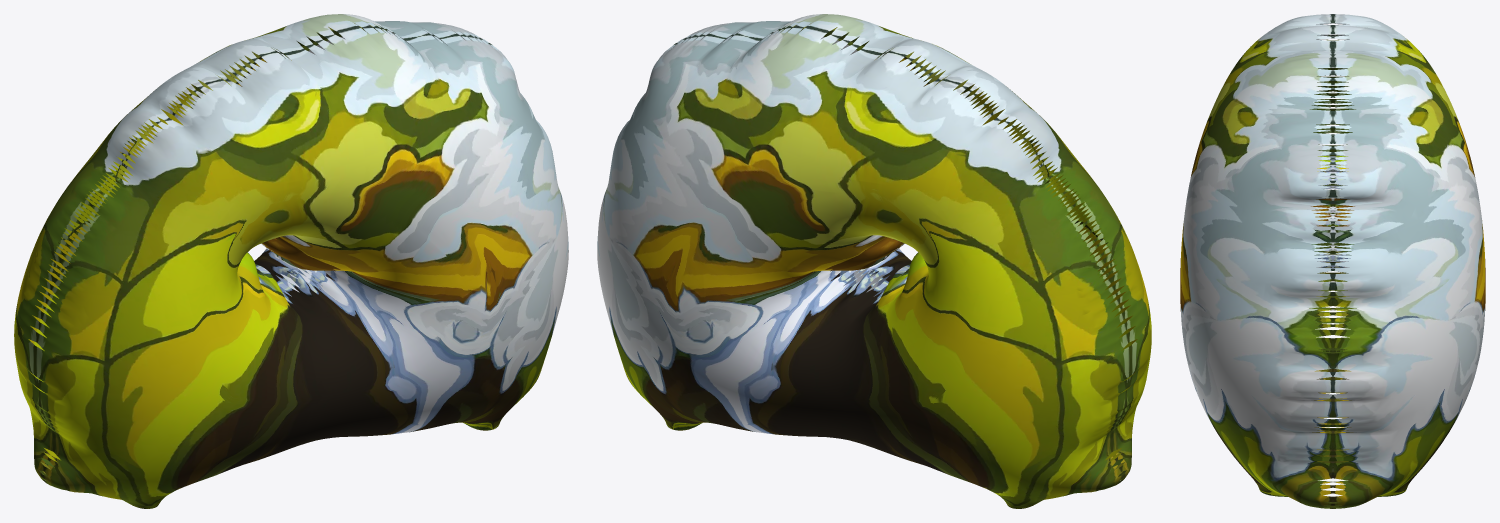
The model's file is leaf_vault.glb.
3 views of the same model, side by side, from view 1: azimuth 30°, elevation 25°; view 2: azimuth 150°, elevation 25°; view 3: azimuth 270°, elevation 25° (orthographic). The views are drawn at different scales.
Parts seen in each view (by area): view 1: leaf_vault; view 2: leaf_vault; view 3: leaf_vault.
Boxes of the visible parts, x1,y1,x2,y2 form: leaf_vault: (14, 14, 568, 508); leaf_vault: (597, 14, 1151, 508); leaf_vault: (1180, 14, 1485, 508).
Size of the model in its own units: 0.9889 by 0.7353 by 0.5378.
Materials: 1 (1 with a texture image).
